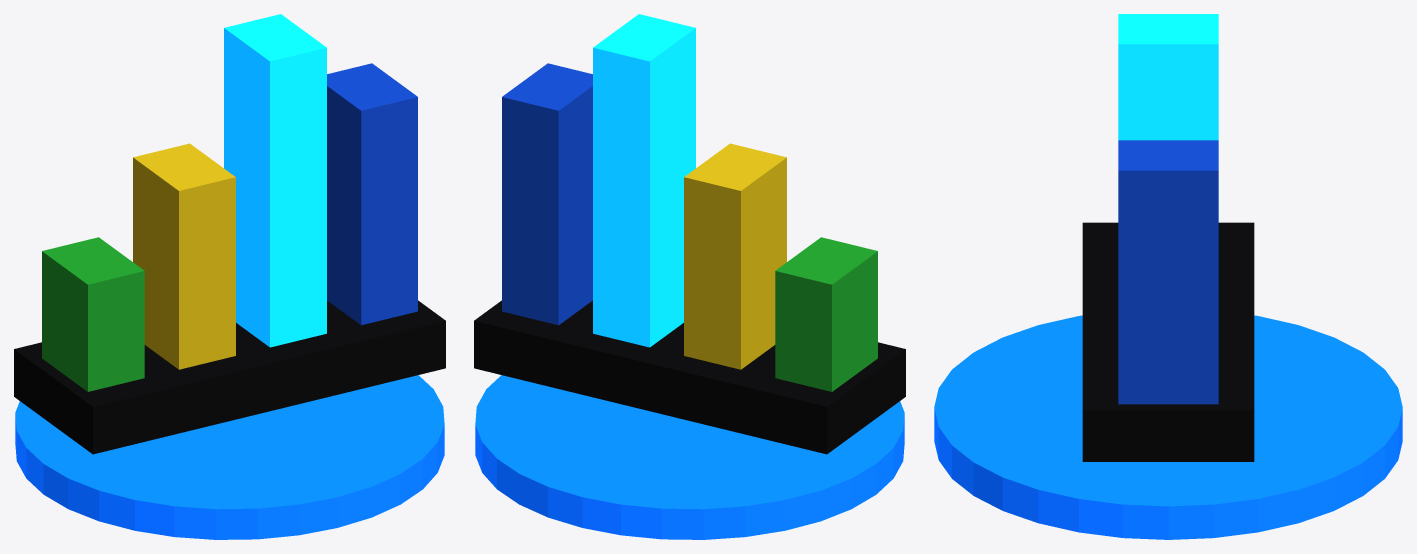
Rendered from news_chart.dae.
The picture shows the model from 3 angles, left to right: view 1: azimuth 30°, elevation 25°; view 2: azimuth 150°, elevation 25°; view 3: azimuth 270°, elevation 25°; orthographic projection. The views are drawn at different scales.
Visible parts, largest first — view 1: 09_14_Popular_News_Chart_ROOT_base, 09_14_Popular_News_Chart_part_04, 09_14_Popular_News_Chart_part_01, 09_14_Popular_News_Chart_part_05, 09_14_Popular_News_Chart_part_03, 09_14_Popular_News_Chart_part_02; view 2: 09_14_Popular_News_Chart_ROOT_base, 09_14_Popular_News_Chart_part_04, 09_14_Popular_News_Chart_part_01, 09_14_Popular_News_Chart_part_05, 09_14_Popular_News_Chart_part_03, 09_14_Popular_News_Chart_part_02; view 3: 09_14_Popular_News_Chart_ROOT_base, 09_14_Popular_News_Chart_part_05, 09_14_Popular_News_Chart_part_01, 09_14_Popular_News_Chart_part_04.
Boxes of the visible parts, <box> form: 09_14_Popular_News_Chart_ROOT_base: <box>15,375,444,539</box>; 09_14_Popular_News_Chart_part_04: <box>224,14,326,347</box>; 09_14_Popular_News_Chart_part_01: <box>14,300,445,454</box>; 09_14_Popular_News_Chart_part_05: <box>327,63,417,325</box>; 09_14_Popular_News_Chart_part_03: <box>133,143,235,369</box>; 09_14_Popular_News_Chart_part_02: <box>42,237,144,391</box>; 09_14_Popular_News_Chart_ROOT_base: <box>475,375,904,539</box>; 09_14_Popular_News_Chart_part_04: <box>593,14,695,347</box>; 09_14_Popular_News_Chart_part_01: <box>474,300,905,454</box>; 09_14_Popular_News_Chart_part_05: <box>502,63,592,325</box>; 09_14_Popular_News_Chart_part_03: <box>684,143,786,369</box>; 09_14_Popular_News_Chart_part_02: <box>775,237,877,391</box>; 09_14_Popular_News_Chart_ROOT_base: <box>934,315,1402,539</box>; 09_14_Popular_News_Chart_part_05: <box>1118,140,1218,404</box>; 09_14_Popular_News_Chart_part_01: <box>1082,222,1254,461</box>; 09_14_Popular_News_Chart_part_04: <box>1118,14,1218,140</box>.
Bounding box in the file's own units: 0.76 × 0.7803 × 0.76.
